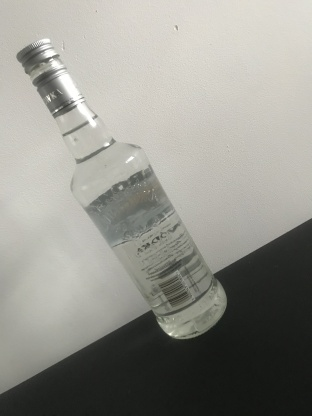nakretka: (13, 36, 86, 119)
